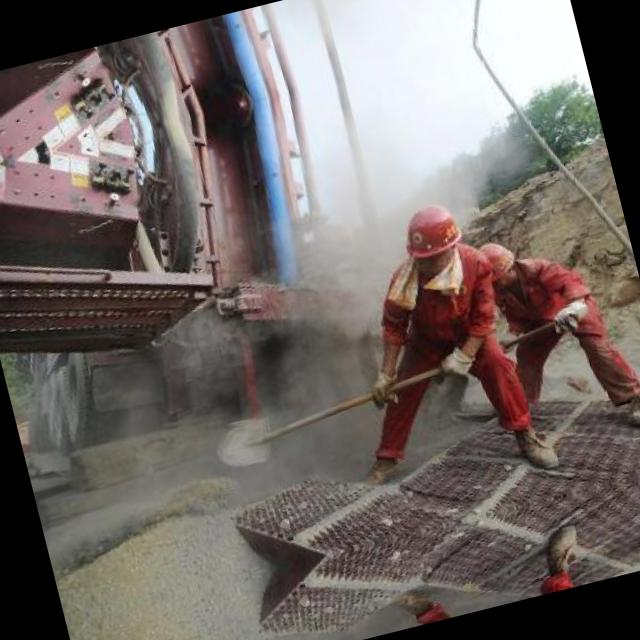helmet: (392, 192, 471, 284), (468, 232, 524, 294)
